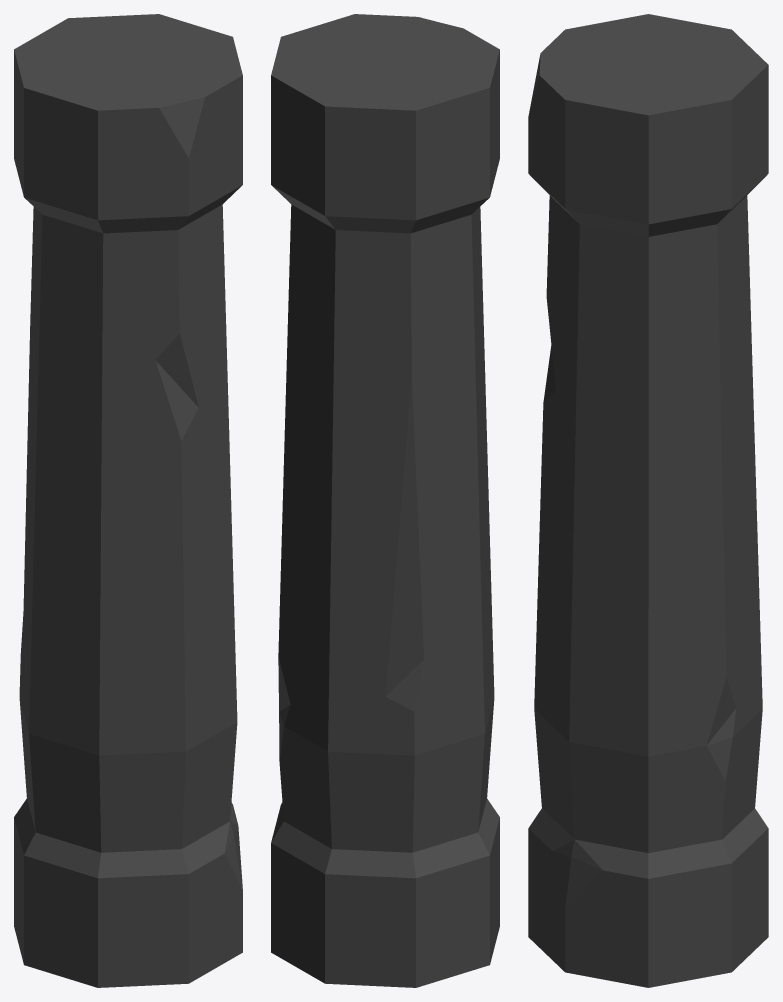
File: Pillar.fbx
3 views of the same model, side by side, from view 1: azimuth 30°, elevation 25°; view 2: azimuth 150°, elevation 25°; view 3: azimuth 270°, elevation 25° (orthographic).
Parts seen in each view (by area): view 1: Pillar; view 2: Pillar; view 3: Pillar.
Boxes of the visible parts, x1,y1,x2,y2 form: Pillar: (14, 14, 242, 987); Pillar: (271, 14, 499, 987); Pillar: (528, 14, 768, 987).
Bounding box in the file's own units: 200 × 802 × 200.
Materials: 1 (1 with a texture image).
